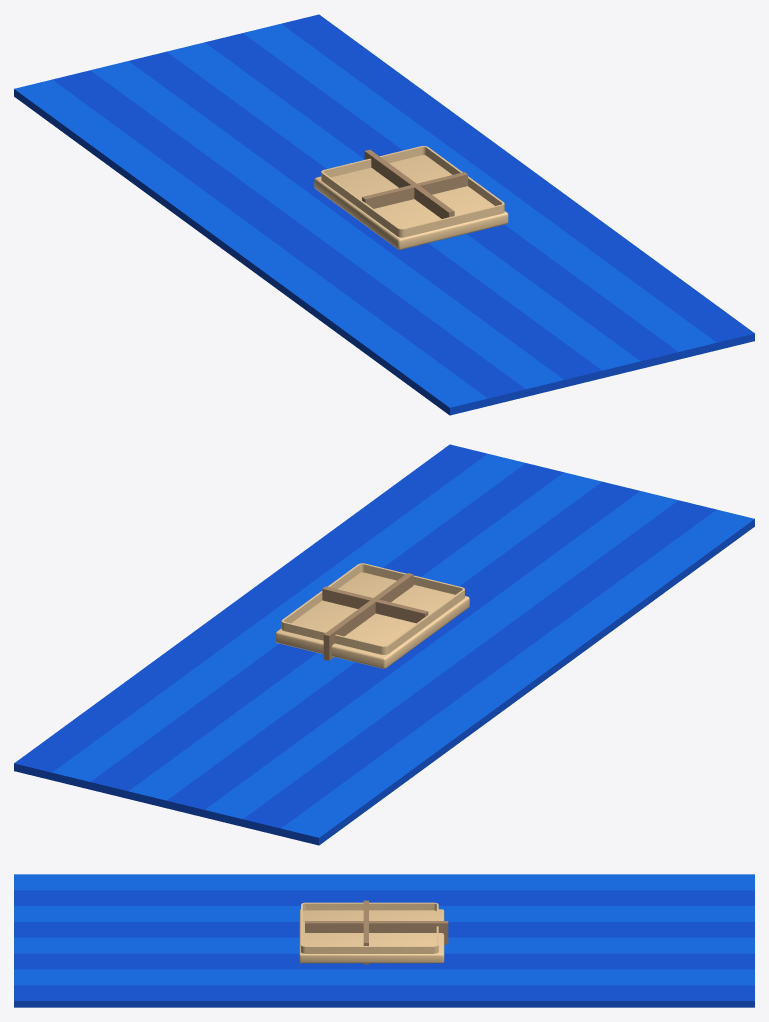
Rendered from Arena.fbx.
3 views of the same model, one above another, from view 1: azimuth 30°, elevation 25°; view 2: azimuth 150°, elevation 25°; view 3: azimuth 270°, elevation 25° (orthographic). The views are drawn at different scales.
Parts seen in each view (by area): view 1: Box003, ChamferBox001, Rectangle003, Box005, Box004; view 2: Box003, ChamferBox001, Rectangle003, Box004, Box005; view 3: Box003, ChamferBox001, Rectangle003, Box004, Box005.
Part boxes in pixels (x1,y1,x2,y2): Box003: (14,14,754,415); ChamferBox001: (314,155,508,249); Rectangle003: (321,146,504,237); Box005: (362,172,467,208); Box004: (364,149,454,218); Box003: (14,444,754,845); ChamferBox001: (275,572,469,668); Rectangle003: (281,563,464,654); Box004: (323,573,413,660); Box005: (322,586,428,623); Box003: (14,874,754,1007); ChamferBox001: (299,909,444,963); Rectangle003: (301,902,438,953); Box004: (305,921,448,944); Box005: (363,900,368,964).
Size of the model in its own units: 2203 by 249 by 5450.
